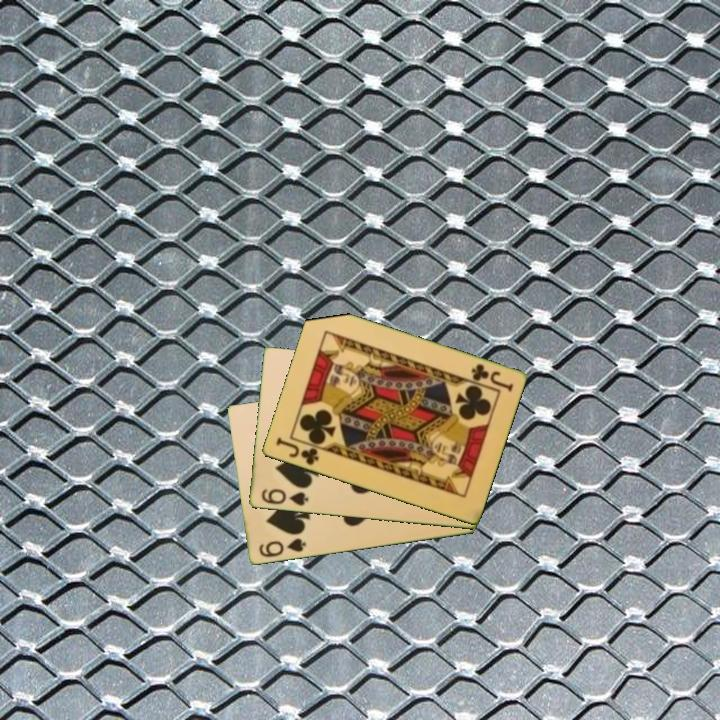6s: (255, 535, 309, 560), (258, 485, 311, 509)
Jc: (467, 360, 516, 395), (272, 434, 321, 468)
